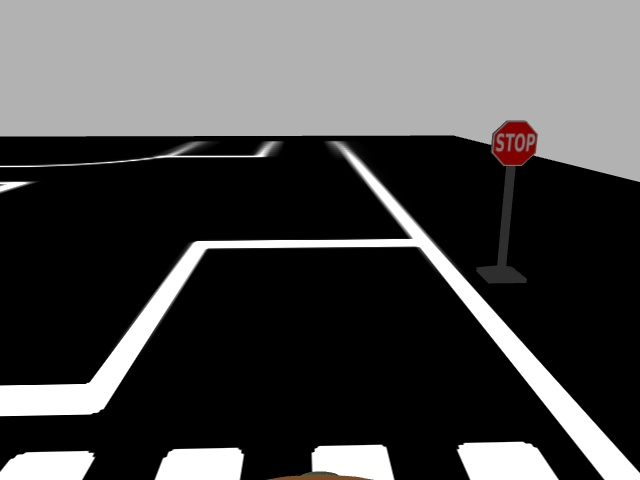stop: (490, 117, 539, 167)
